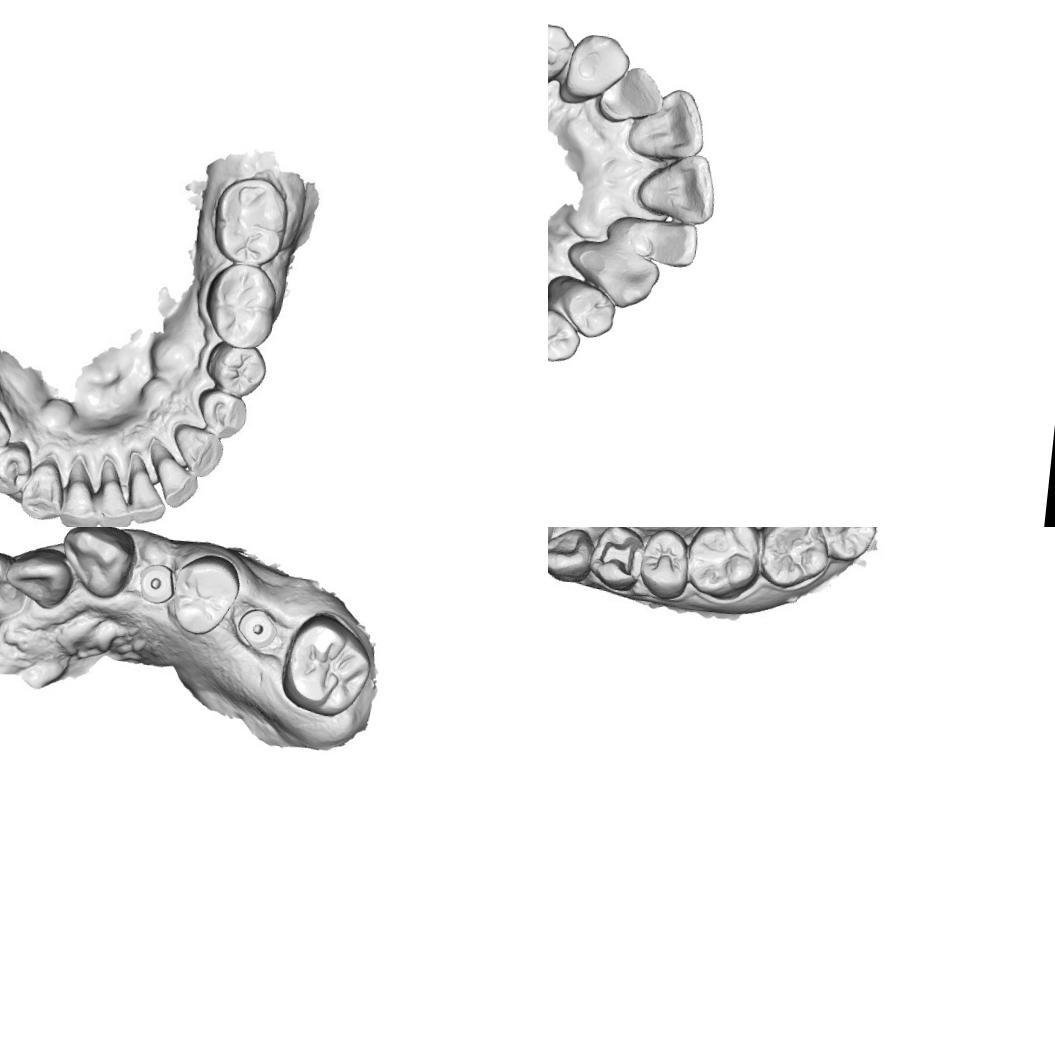canine: (562, 237, 664, 312), (557, 30, 634, 110), (58, 527, 138, 603), (172, 422, 226, 481), (548, 527, 597, 584), (24, 458, 64, 514)
implant: (231, 602, 281, 652), (134, 561, 176, 608)
incisor: (633, 148, 720, 230), (625, 85, 709, 164), (602, 212, 701, 270), (596, 63, 667, 128), (7, 544, 72, 612), (58, 453, 109, 527), (145, 445, 200, 507), (94, 458, 140, 527), (122, 458, 169, 523), (0, 545, 20, 622)
inlay: (598, 529, 646, 582)
molar: (279, 606, 378, 723), (206, 259, 285, 348), (211, 176, 288, 260), (684, 527, 767, 604), (751, 527, 839, 594), (808, 527, 883, 567)
premolar: (165, 549, 243, 640), (548, 272, 621, 341), (638, 531, 690, 596), (211, 337, 264, 396), (196, 387, 246, 435), (548, 302, 584, 365), (548, 20, 577, 92), (0, 444, 33, 498)
